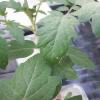Tomato mold leaf: (0, 51, 61, 99), (34, 7, 77, 68)
